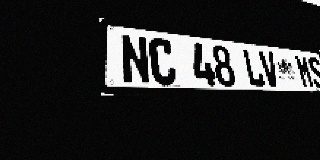4: (190, 42, 217, 86)
8: (211, 45, 237, 86)
C: (148, 37, 178, 85)
L: (242, 48, 266, 87)
M: (294, 55, 315, 88)
N: (120, 34, 151, 85)
S: (306, 56, 320, 88)
V: (258, 50, 281, 87)
